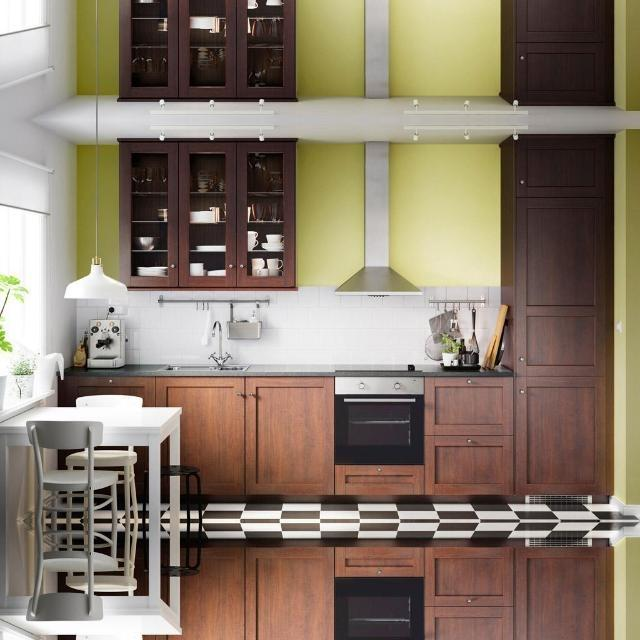obstacle: (0, 396, 202, 520), (0, 521, 201, 640)
